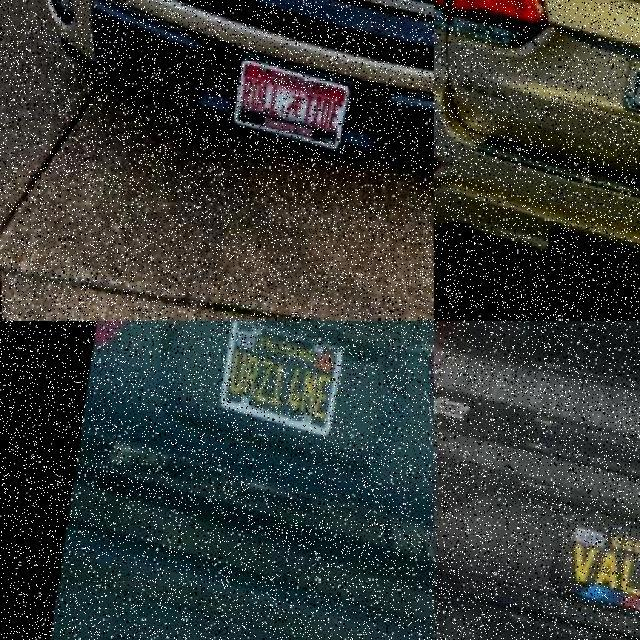LicensePlate: (215, 320, 343, 428), (229, 53, 346, 144), (543, 506, 639, 607)
